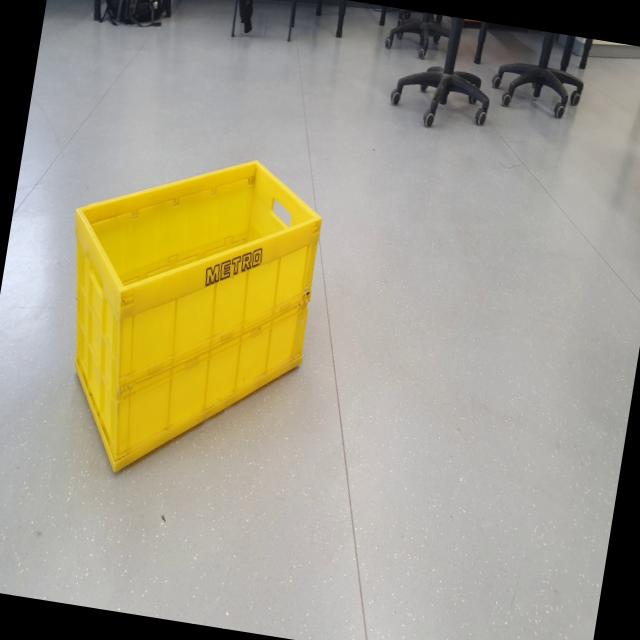box: (34, 128, 336, 506)
